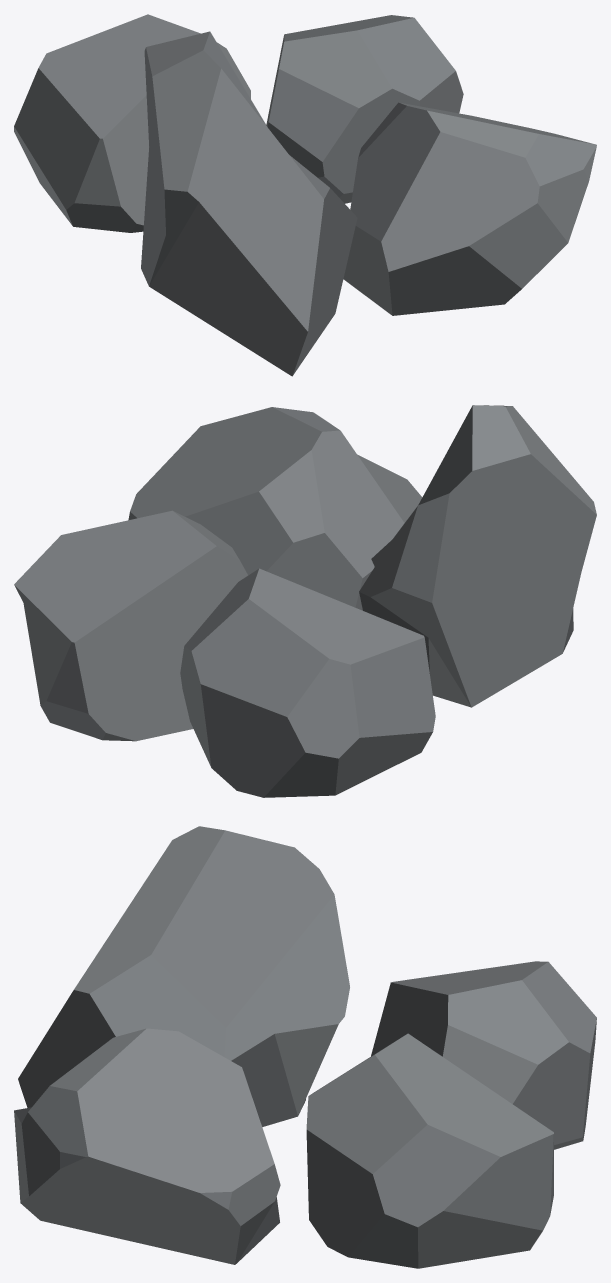
Rendered from rocks.glb.
3 views of the same model, one above another, from view 1: azimuth 30°, elevation 25°; view 2: azimuth 150°, elevation 25°; view 3: azimuth 270°, elevation 25° (orthographic). The views are drawn at different scales.
Parts seen in each view (by area): view 1: Cube.003; view 2: Cube.003; view 3: Cube.003.
Part boxes in pixels (box(x1,y1,x2,y2)): Cube.003: box(14, 14, 596, 376); Cube.003: box(14, 405, 596, 797); Cube.003: box(14, 826, 596, 1268).
Bounding box in the file's own units: 6.39 × 4.09 × 7.23.
Materials: 1 (1 with a texture image).
